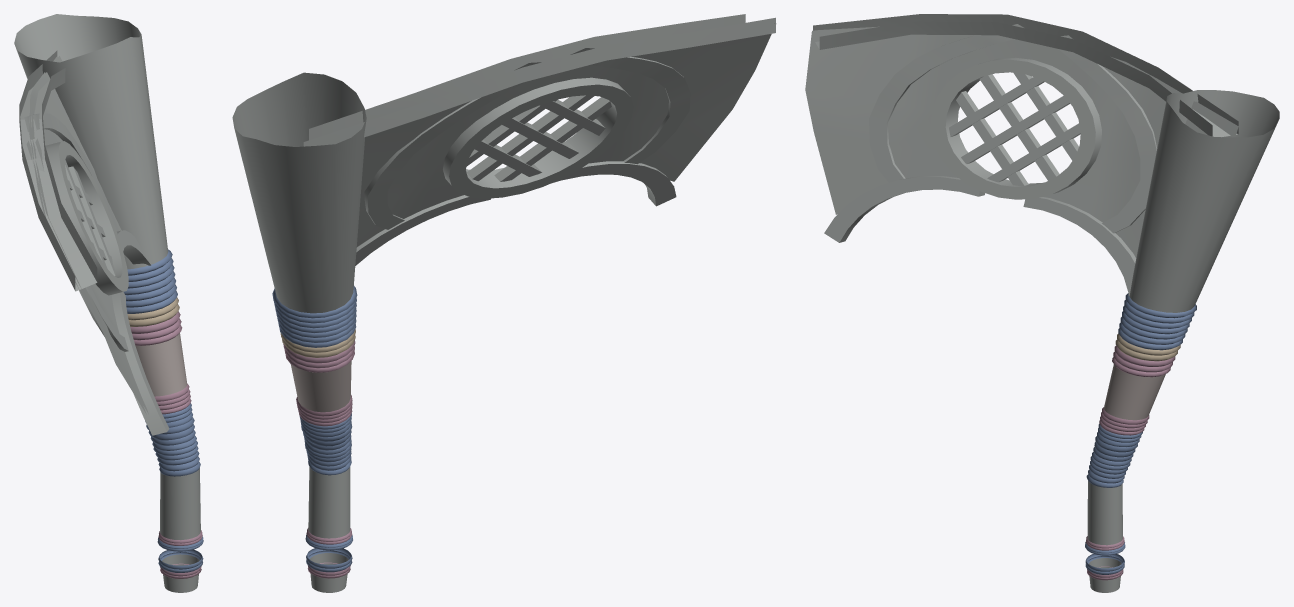
3 views of the same model, side by side, from view 1: azimuth 30°, elevation 25°; view 2: azimuth 150°, elevation 25°; view 3: azimuth 270°, elevation 25° (orthographic). The views are drawn at different scales.
Parts seen in each view (by area): view 1: G:\FFXIV-MapTools\exports\y6f2\bg\ex5\02_ykt_y6\fld\y6f2\bgp (×4); view 2: G:\FFXIV-MapTools\exports\y6f2\bg\ex5\02_ykt_y6\fld\y6f2\bgp (×4); view 3: G:\FFXIV-MapTools\exports\y6f2\bg\ex5\02_ykt_y6\fld\y6f2\bgp (×4).
Boxes of the visible parts, bbox=[...] form: G:\FFXIV-MapTools\exports\y6f2\bg\ex5\02_ykt_y6\fld\y6f2\bgp (×4): bbox=[14, 14, 203, 592]; G:\FFXIV-MapTools\exports\y6f2\bg\ex5\02_ykt_y6\fld\y6f2\bgp (×4): bbox=[232, 14, 776, 592]; G:\FFXIV-MapTools\exports\y6f2\bg\ex5\02_ykt_y6\fld\y6f2\bgp (×4): bbox=[805, 14, 1279, 592].
Size of the model in its own units: 21.96 by 38.81 by 34.88.
